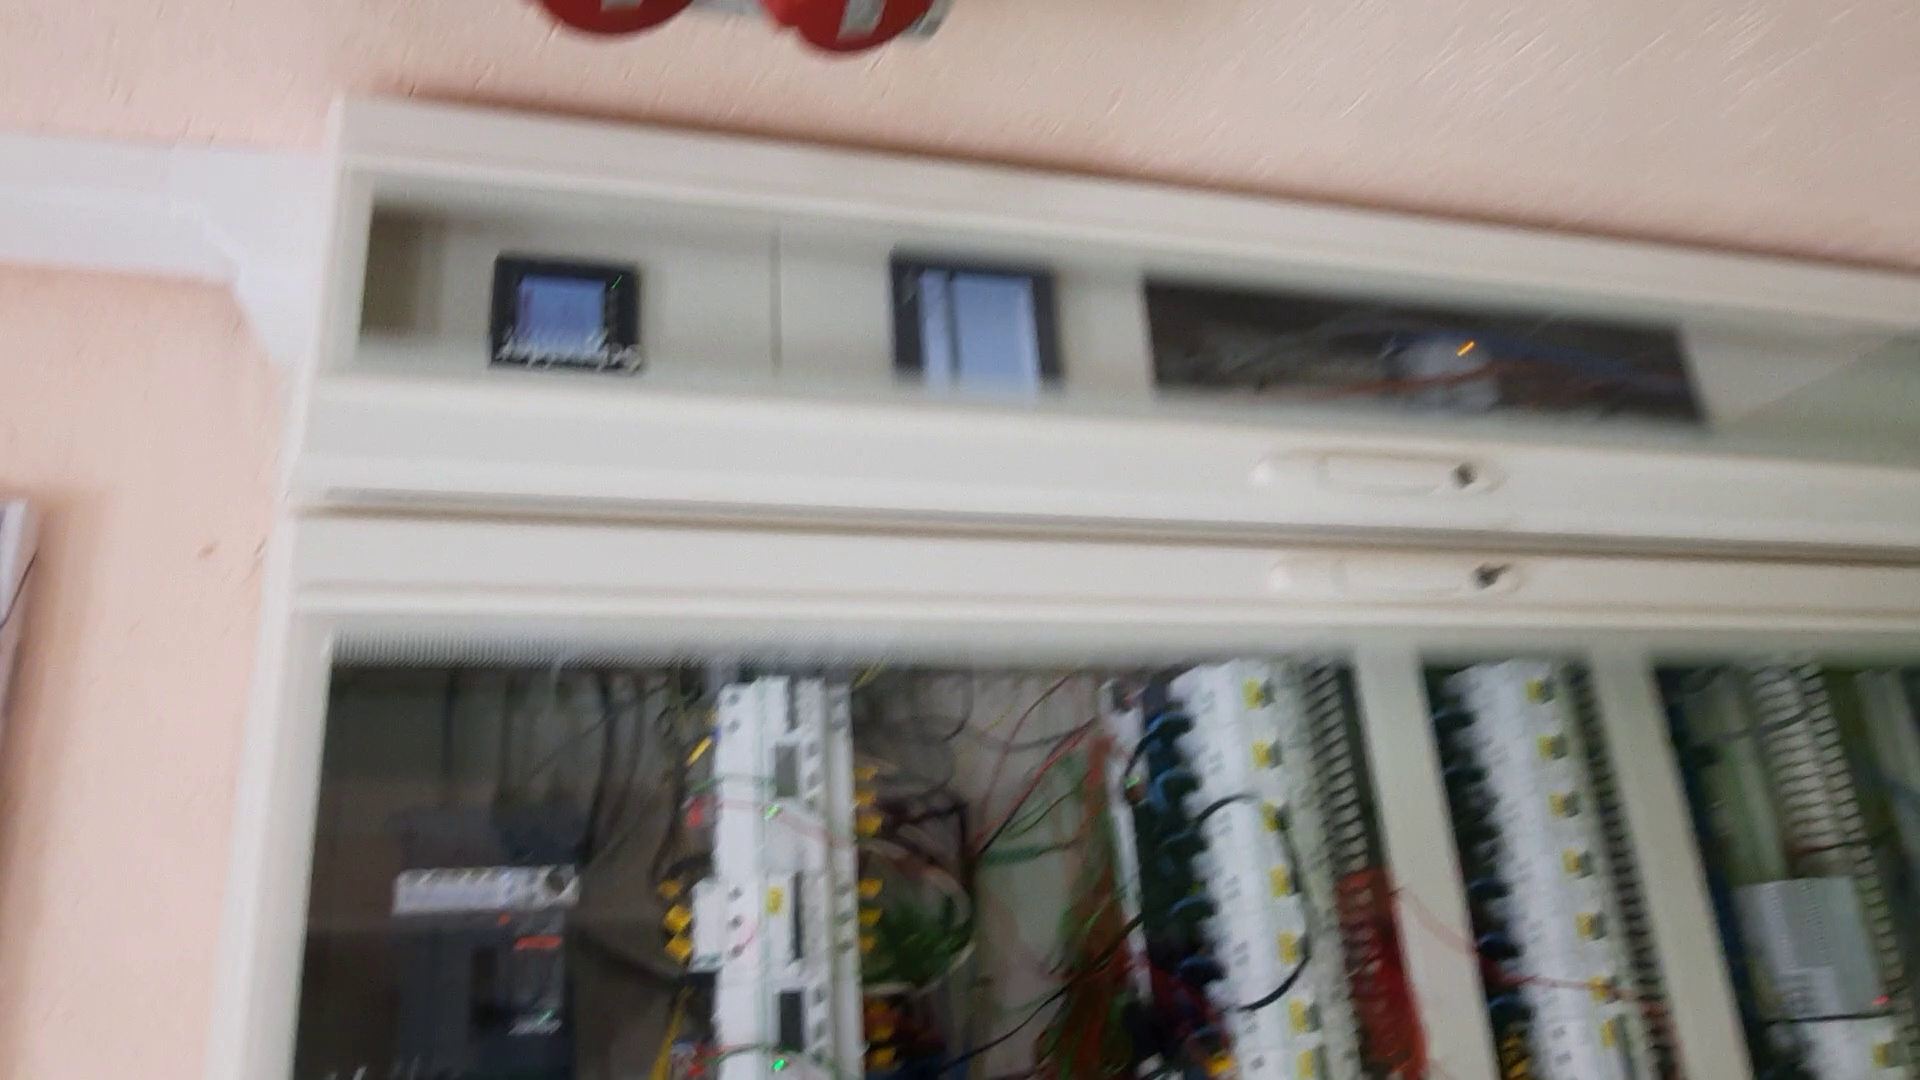stand1: (249, 109, 1920, 1080)
